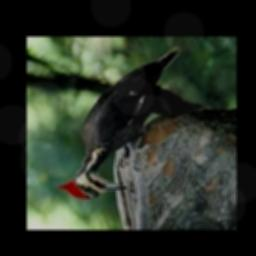Woodpecker: (57, 48, 182, 199)
